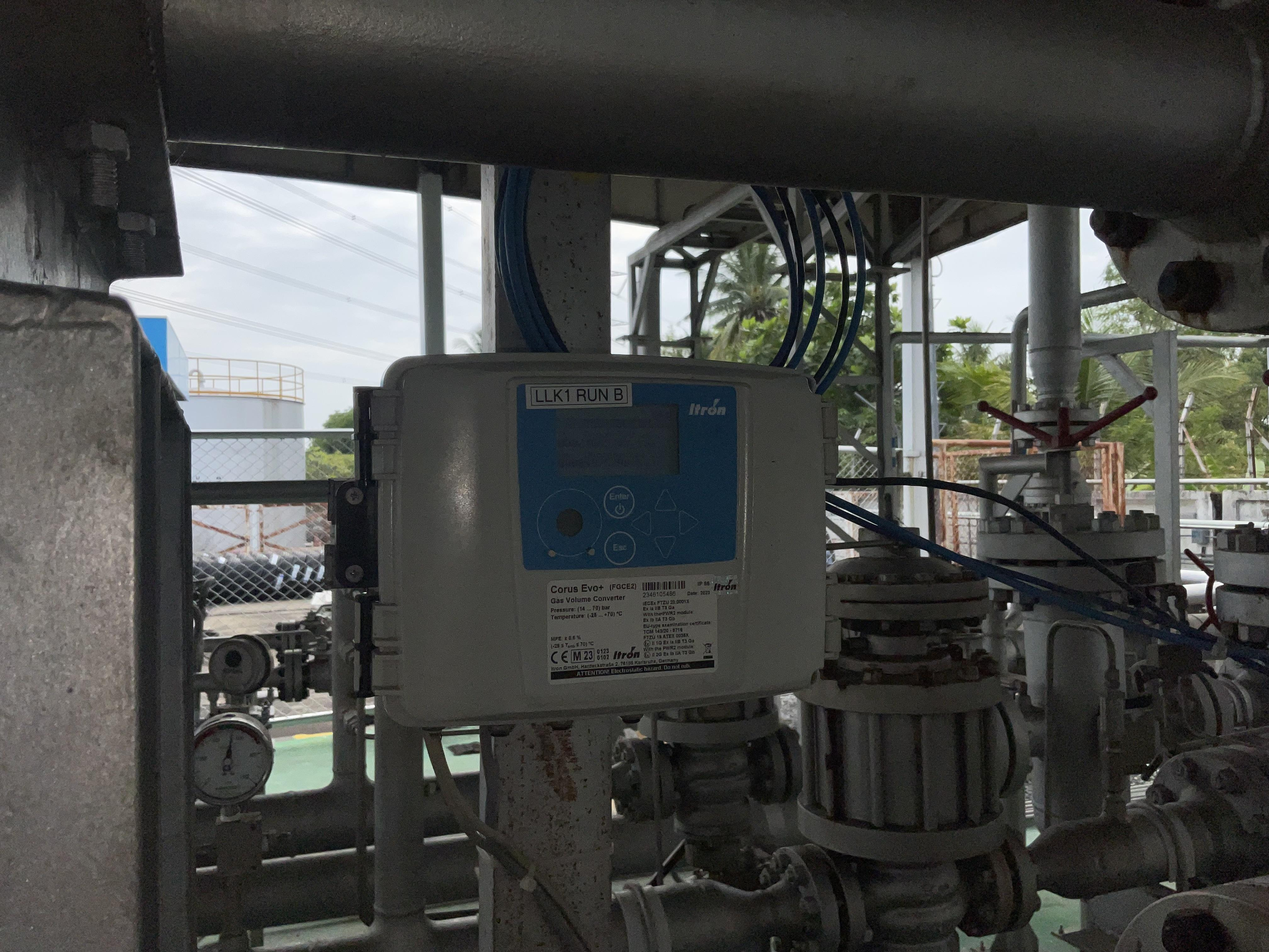digital_screen: (555, 404, 679, 477)
